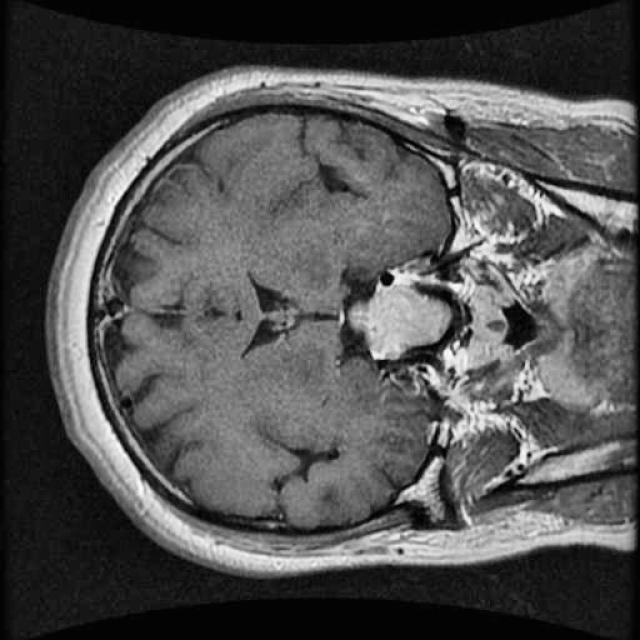Tumor: (341, 262, 460, 379)
